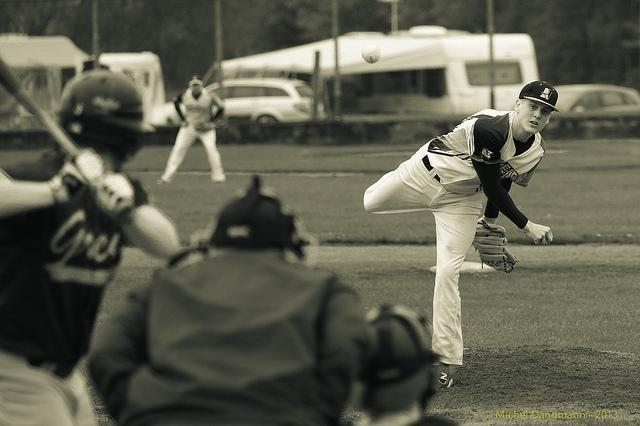car: (157, 72, 328, 129), (554, 84, 640, 112)
